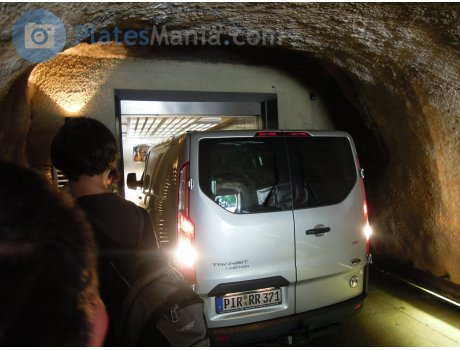License Plates: (220, 293, 283, 304)
